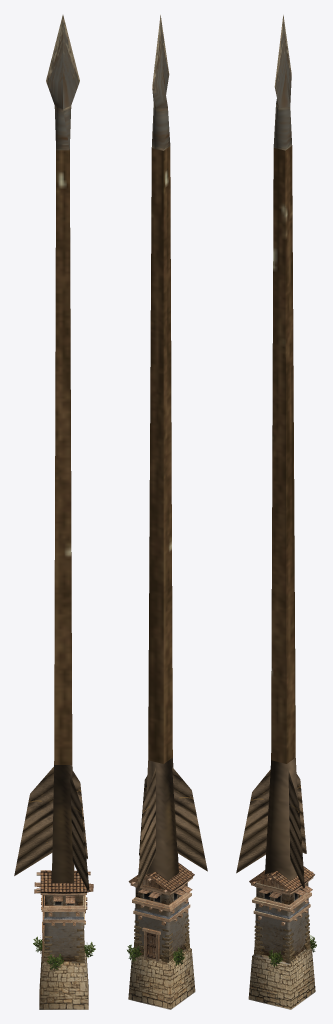
The model's file is s_seleucids_wooden_tower.glb.
3 views of the same model, side by side, from view 1: azimuth 90°, elevation 25°; view 2: azimuth 150°, elevation 25°; view 3: azimuth 330°, elevation 25° (orthographic).
Visible parts, largest first — view 1: s_seleucids_wooden_tower_part1, s_seleucids_wooden_tower_part0, s_seleucids_wooden_tower_part2; view 2: s_seleucids_wooden_tower_part1, s_seleucids_wooden_tower_part0, s_seleucids_wooden_tower_part2; view 3: s_seleucids_wooden_tower_part1, s_seleucids_wooden_tower_part0, s_seleucids_wooden_tower_part2.
Part boxes in pixels (bbox=[...]): s_seleucids_wooden_tower_part1: bbox=[14, 15, 89, 891]; s_seleucids_wooden_tower_part0: bbox=[34, 870, 93, 1009]; s_seleucids_wooden_tower_part2: bbox=[33, 936, 95, 971]; s_seleucids_wooden_tower_part1: bbox=[137, 15, 207, 890]; s_seleucids_wooden_tower_part0: bbox=[128, 862, 195, 1009]; s_seleucids_wooden_tower_part2: bbox=[127, 944, 184, 965]; s_seleucids_wooden_tower_part1: bbox=[236, 15, 306, 888]; s_seleucids_wooden_tower_part0: bbox=[248, 866, 315, 1009]; s_seleucids_wooden_tower_part2: bbox=[268, 935, 316, 967].
Bounding box in the file's own units: 1.91 × 26.36 × 2.
Materials: 3 (3 with a texture image).
